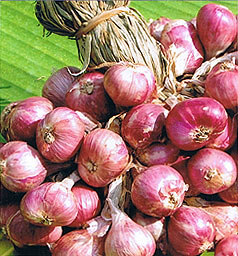onion: (164, 97, 232, 151), (103, 197, 156, 255), (187, 149, 235, 194)
